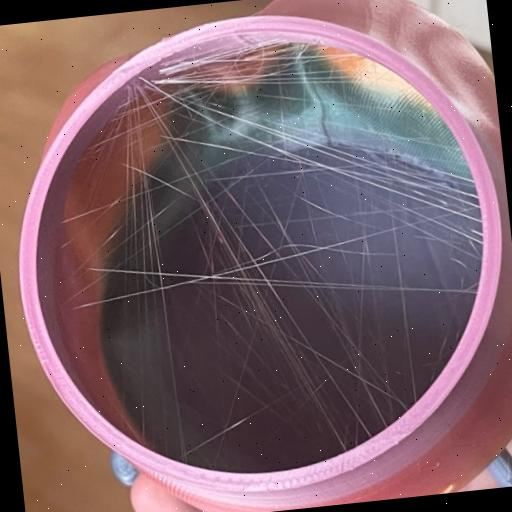stringing: (92, 30, 428, 474)
